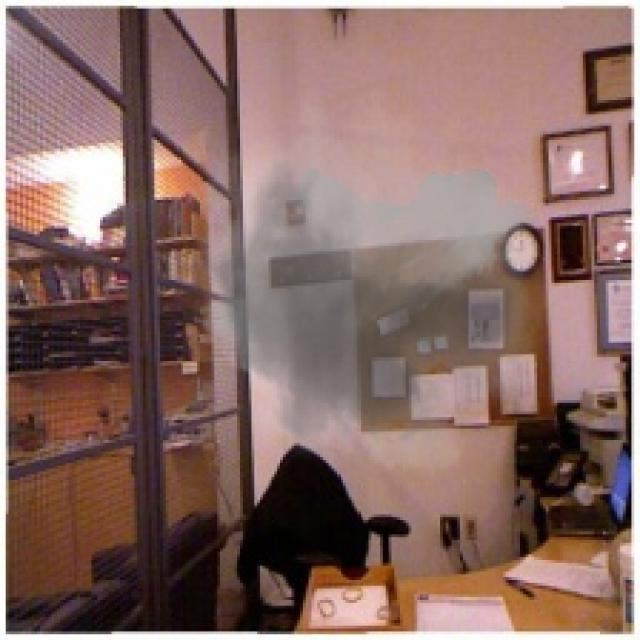smoke: (180, 86, 554, 491)
